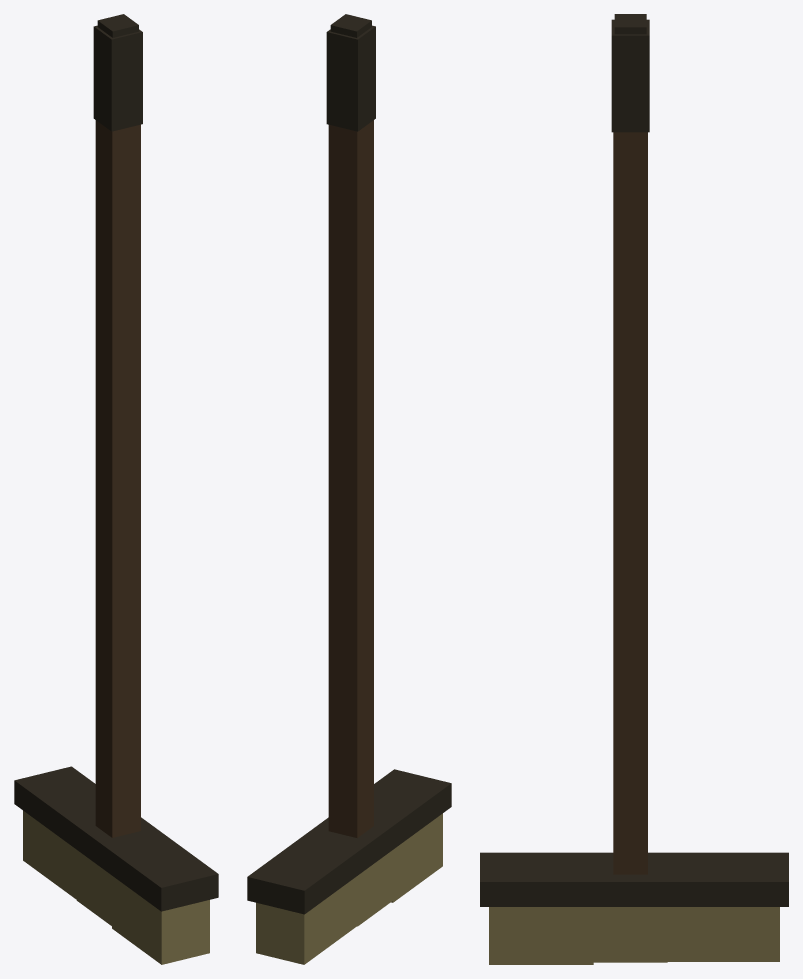
The model's file is broom.fbx.
The picture shows the model from 3 angles, left to right: view 1: azimuth 30°, elevation 25°; view 2: azimuth 150°, elevation 25°; view 3: azimuth 270°, elevation 25°; orthographic projection. The views are drawn at different scales.
Visible parts, largest first — view 1: broom; view 2: broom; view 3: broom.
Part boxes in pixels (x1,y1,x2,y2): broom: [14, 14, 218, 964]; broom: [247, 14, 451, 964]; broom: [480, 14, 788, 964].
Size of the model in its own units: 25.63 by 379 by 114.
